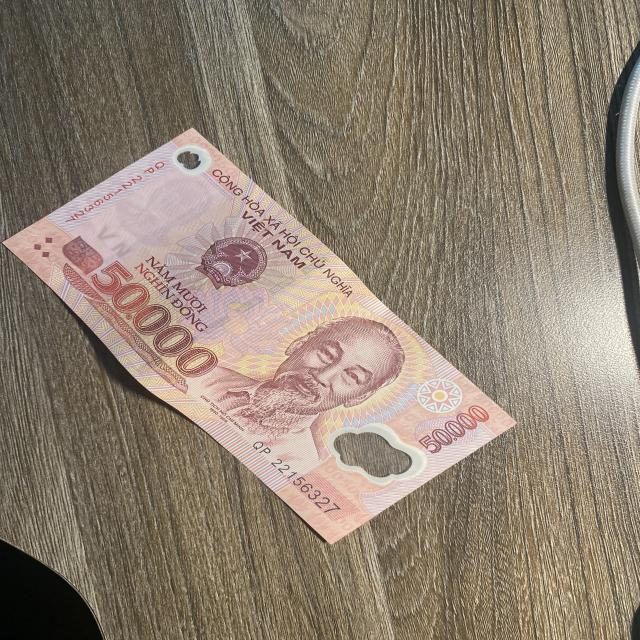50 000 VND: (3, 127, 520, 545)
